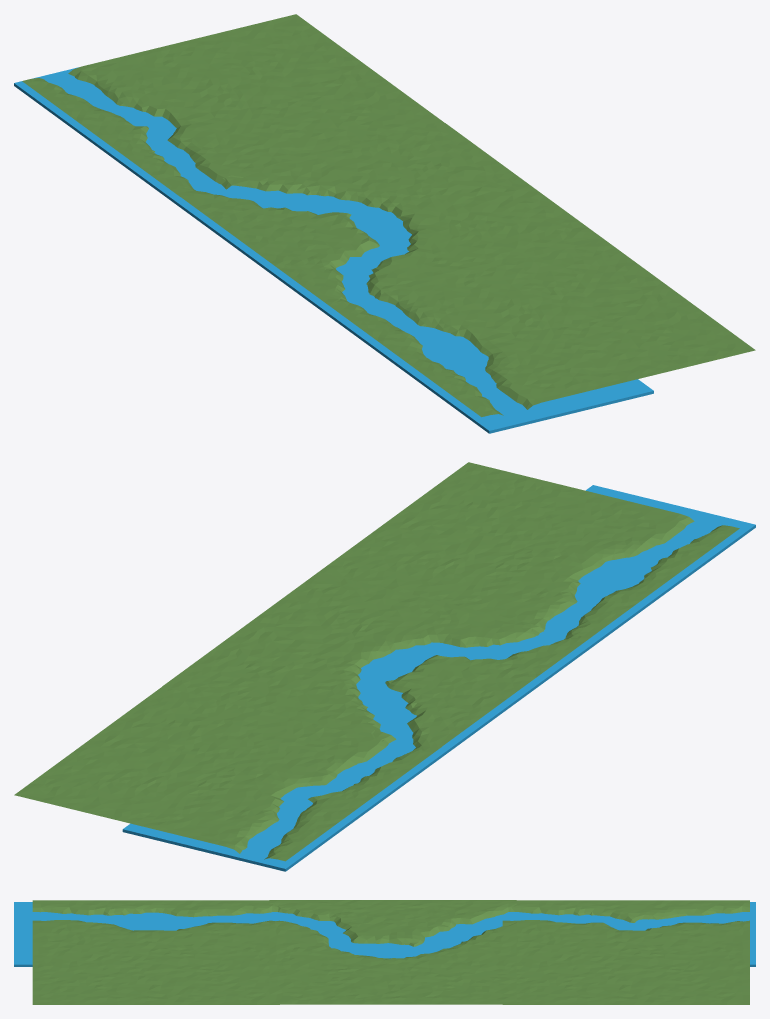
The model's file is river_testing.glb.
The picture shows the model from 3 angles, top to bottom: view 1: azimuth 30°, elevation 25°; view 2: azimuth 150°, elevation 25°; view 3: azimuth 270°, elevation 25°; orthographic projection. The views are drawn at different scales.
Parts seen in each view (by area): view 1: MT_River_L_a_01_R, MT_River_L_a_03, MT_River_L_a_02_R, River; view 2: MT_River_L_a_01_R, MT_River_L_a_03, MT_River_L_a_02_R, River; view 3: MT_River_L_a_01_R, MT_River_L_a_02_R, MT_River_L_a_03, River.
Boxes of the visible parts, box(x1,y1,x2,y2) form: MT_River_L_a_01_R: box(22, 14, 444, 196); MT_River_L_a_03: box(171, 123, 603, 305); MT_River_L_a_02_R: box(330, 239, 755, 417); River: box(14, 67, 653, 433); MT_River_L_a_01_R: box(14, 686, 441, 861); MT_River_L_a_03: box(162, 572, 589, 752); MT_River_L_a_02_R: box(319, 462, 739, 639); River: box(122, 485, 755, 871); MT_River_L_a_01_R: box(502, 900, 749, 1004); MT_River_L_a_02_R: box(32, 900, 279, 1004); MT_River_L_a_03: box(269, 900, 516, 1004); River: box(14, 902, 755, 966).
Bounding box in the file's own units: 102 × 2.6 × 300.
